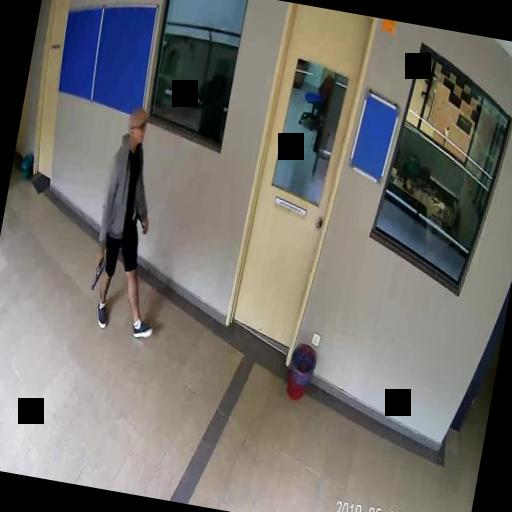Handgun: (88, 250, 104, 290)
